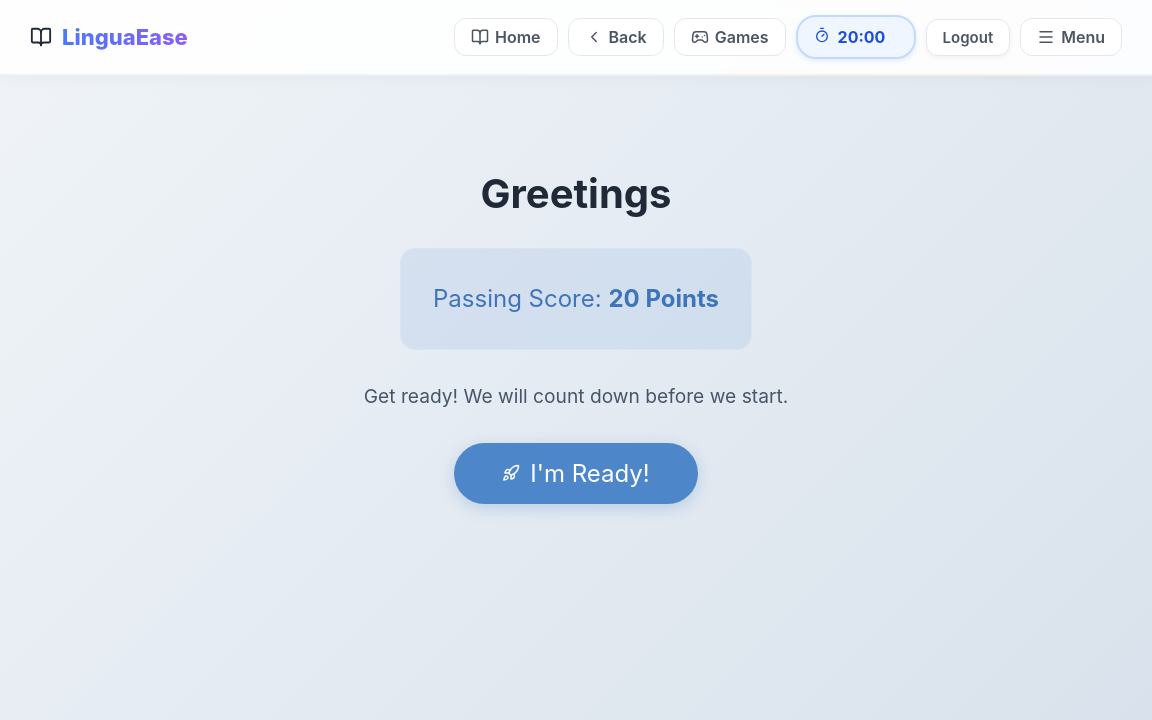
it: ADHDView Component - ADHD Learning Features › 3. Interactive Quizzes & Feedback › should display quiz question and options
The width and height of the screenshot is (1152, 720).
Expected: the heading "Greetings" is shown, [480, 169, 672, 218]
Click the button "I'm Ready!".
click(576, 474)  # box [454, 443, 698, 504]
Wait 5000 ms
(page scrolled)
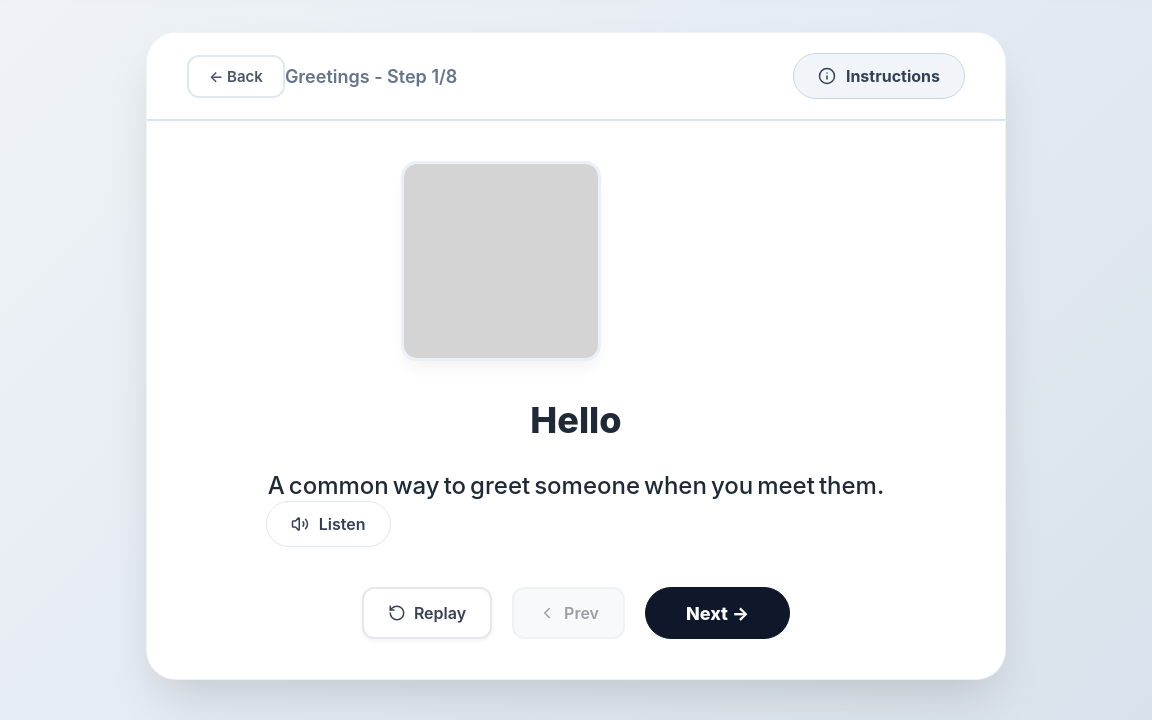
Click the button "Next →".
click(718, 613)  # box [645, 587, 790, 639]
(page scrolled)
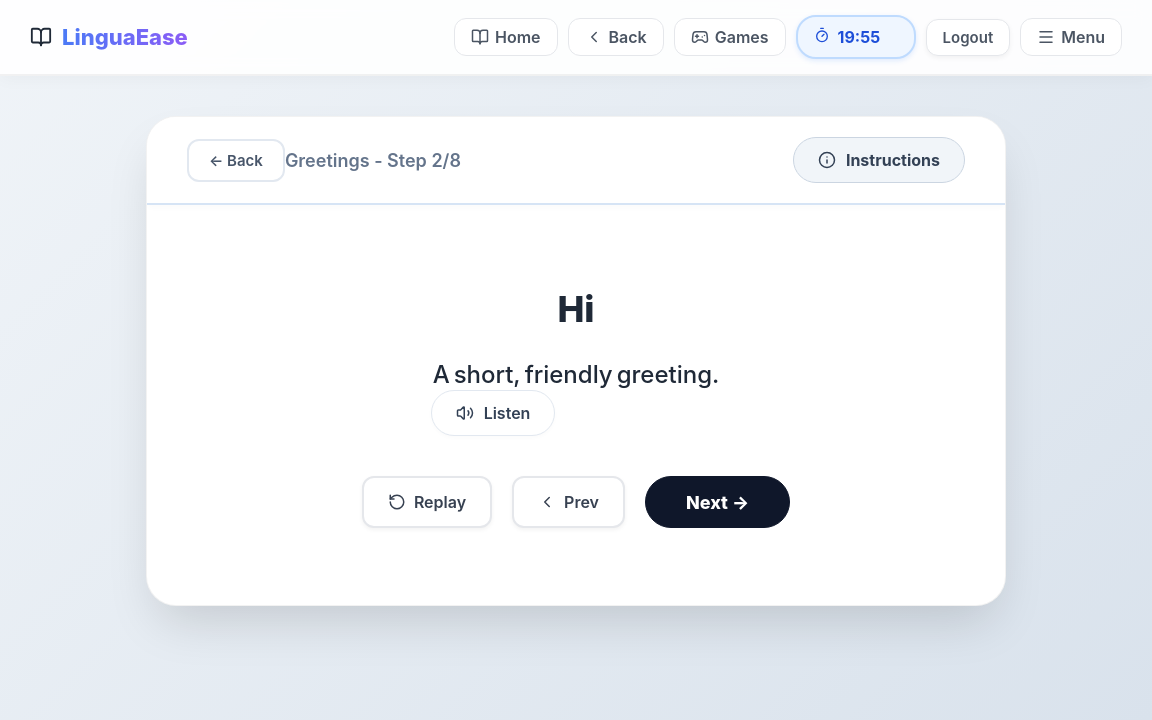
Click the button "Next →".
click(718, 502)  # box [645, 476, 790, 528]
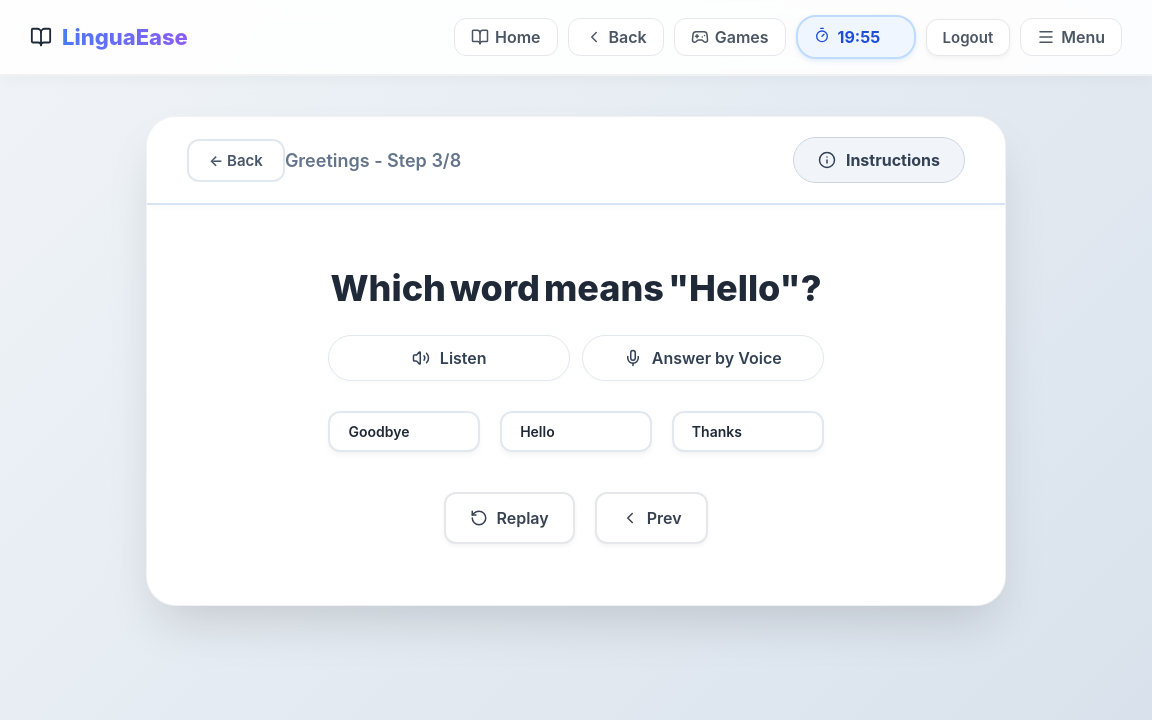
Expected: the heading "Which word means \"Hello\"?" is shown, [328, 266, 824, 311]
Expected: the text "Hello" is shown, [518, 423, 557, 440]
Expected: the text "Goodbye" is shown, [346, 423, 412, 440]
